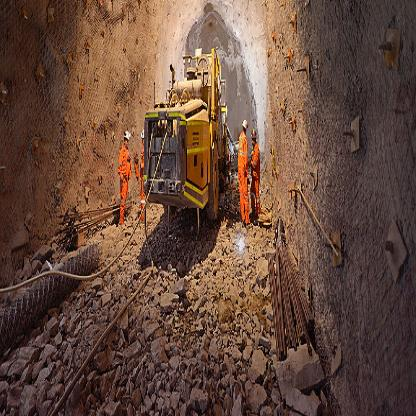person: (114, 127, 131, 238), (237, 109, 251, 224), (250, 118, 262, 221)
